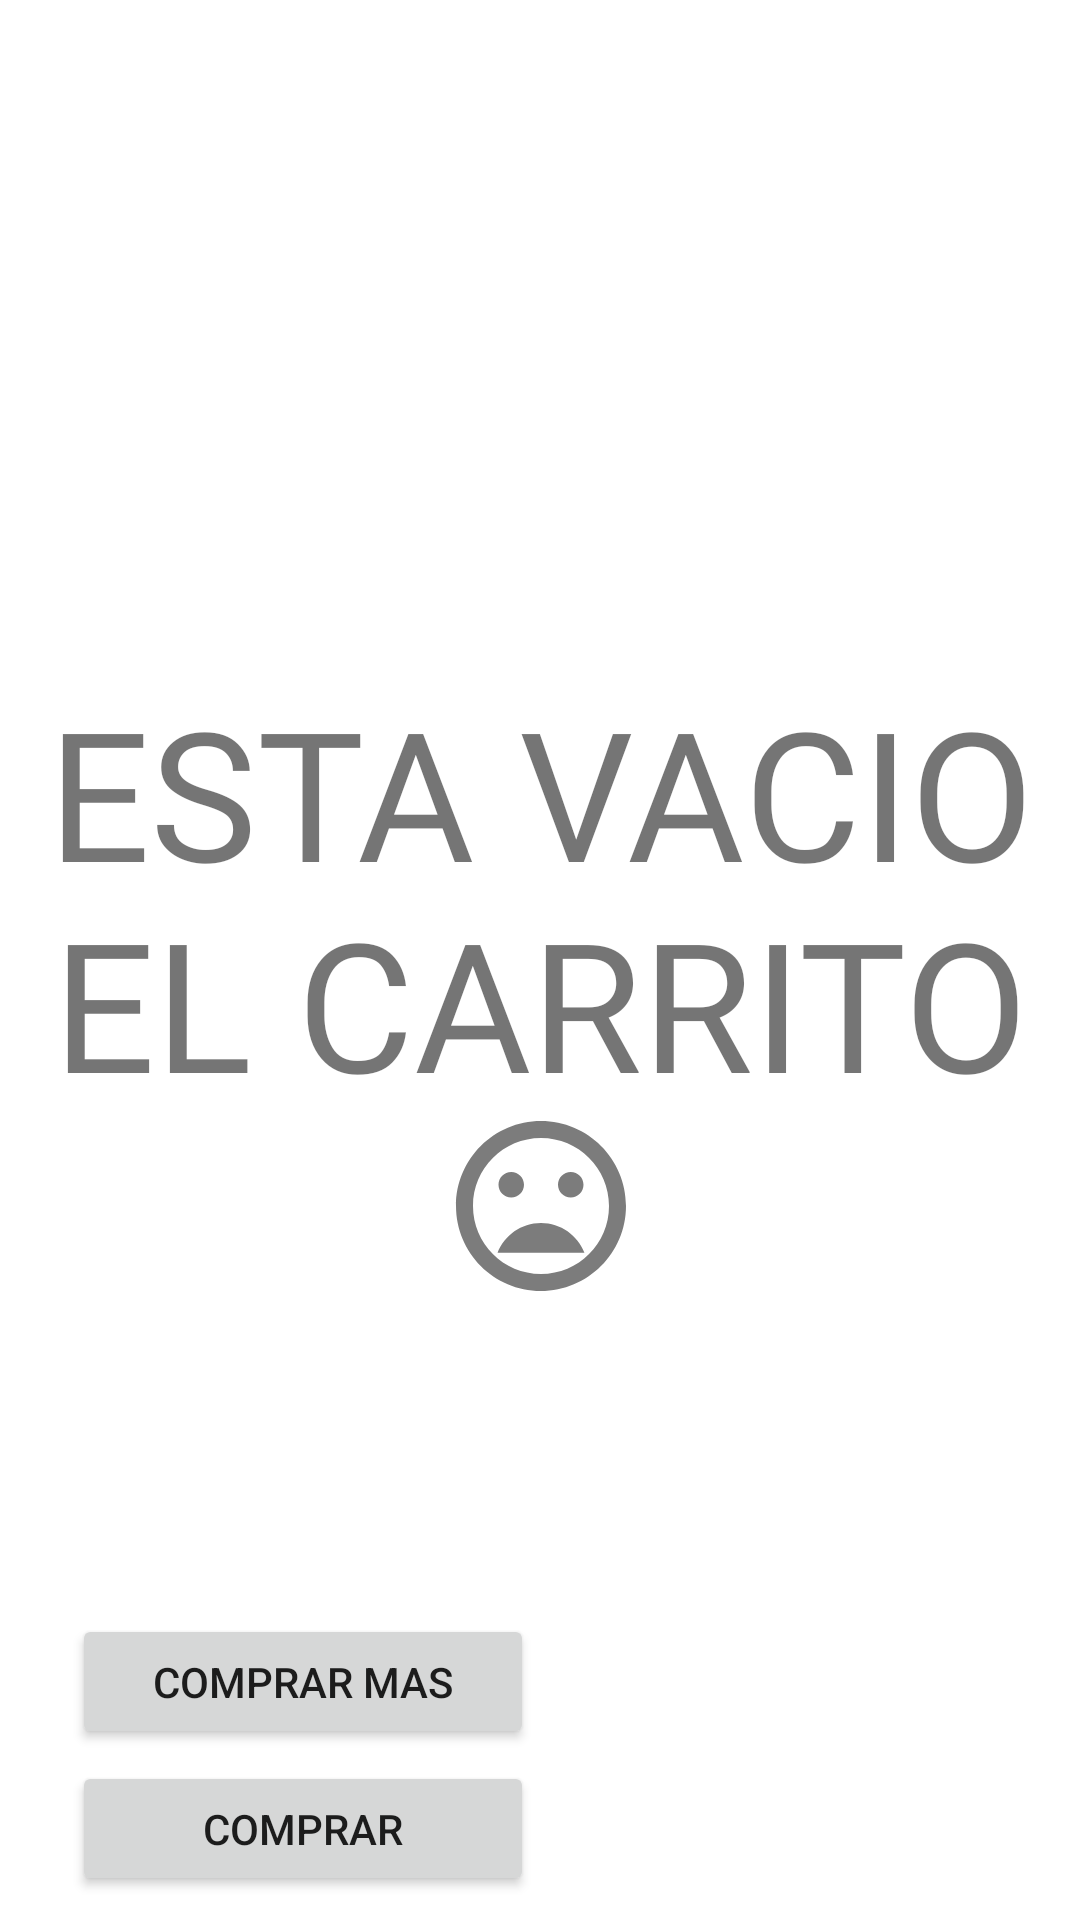

Named icons in this screenshot (1080×1920) and their bounding boxes, (x1, y1, x2, y2):
mood bad: (456, 1121, 626, 1291)
